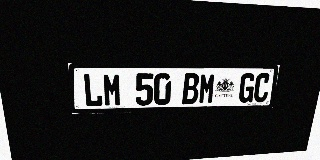0: (153, 73, 171, 105)
5: (136, 73, 153, 106)
B: (182, 73, 200, 104)
C: (253, 73, 271, 102)
G: (238, 73, 256, 103)
L: (82, 73, 103, 107)
M: (102, 73, 122, 107), (198, 73, 216, 104)
